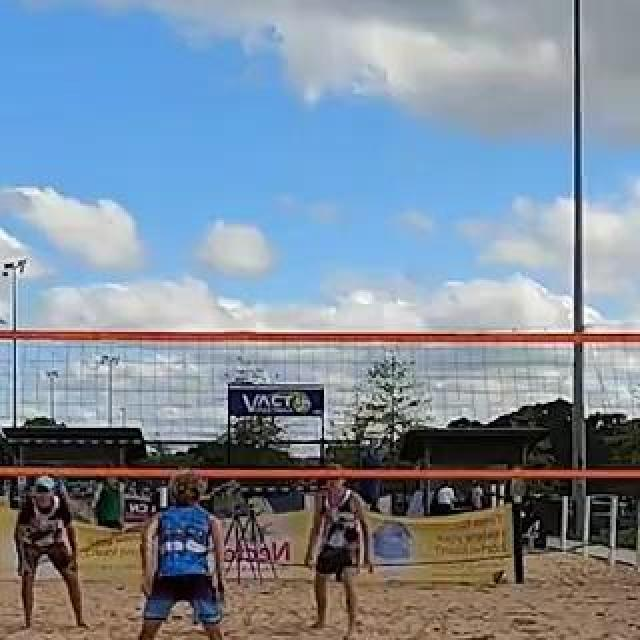volleyball: (492, 569, 508, 585)
